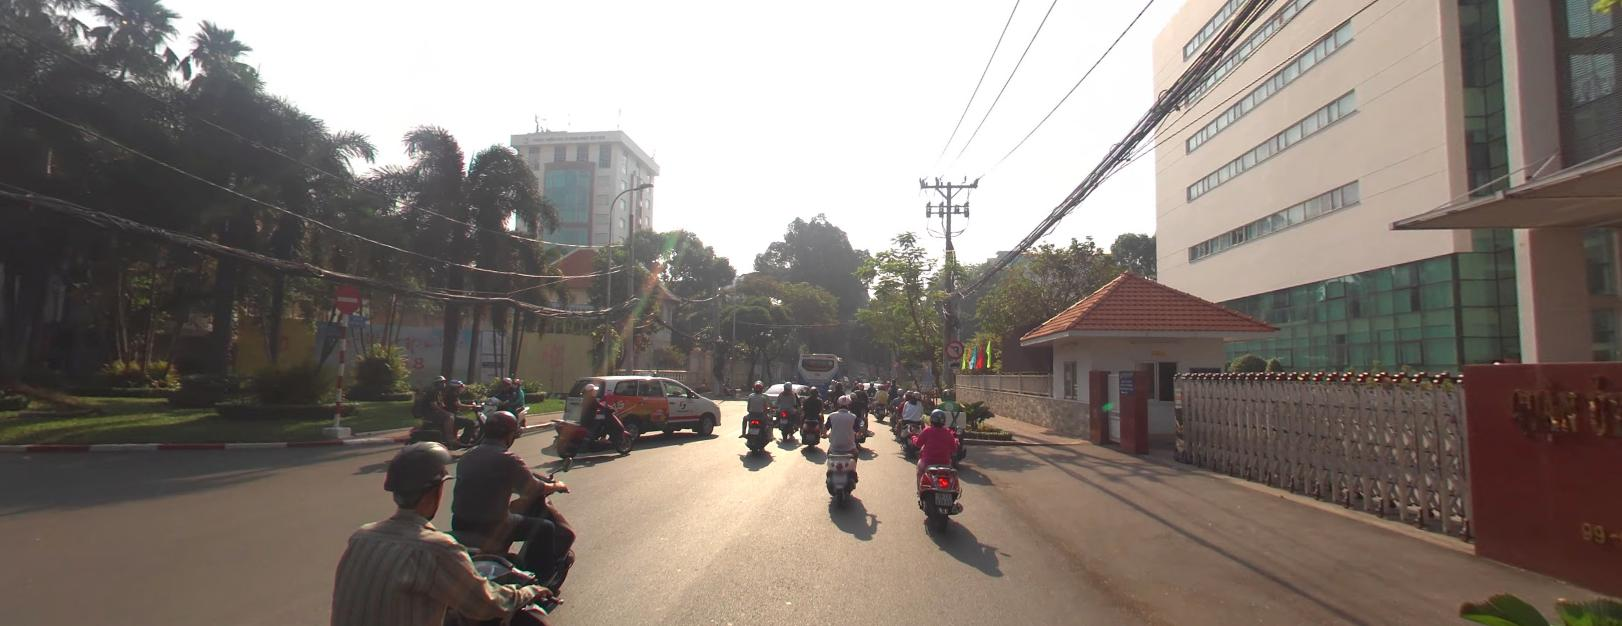Cam con lai: (868, 362, 874, 367)
Cam nguoc chieu: (334, 284, 360, 312)
Cam re: (945, 339, 963, 357), (892, 359, 899, 366)
